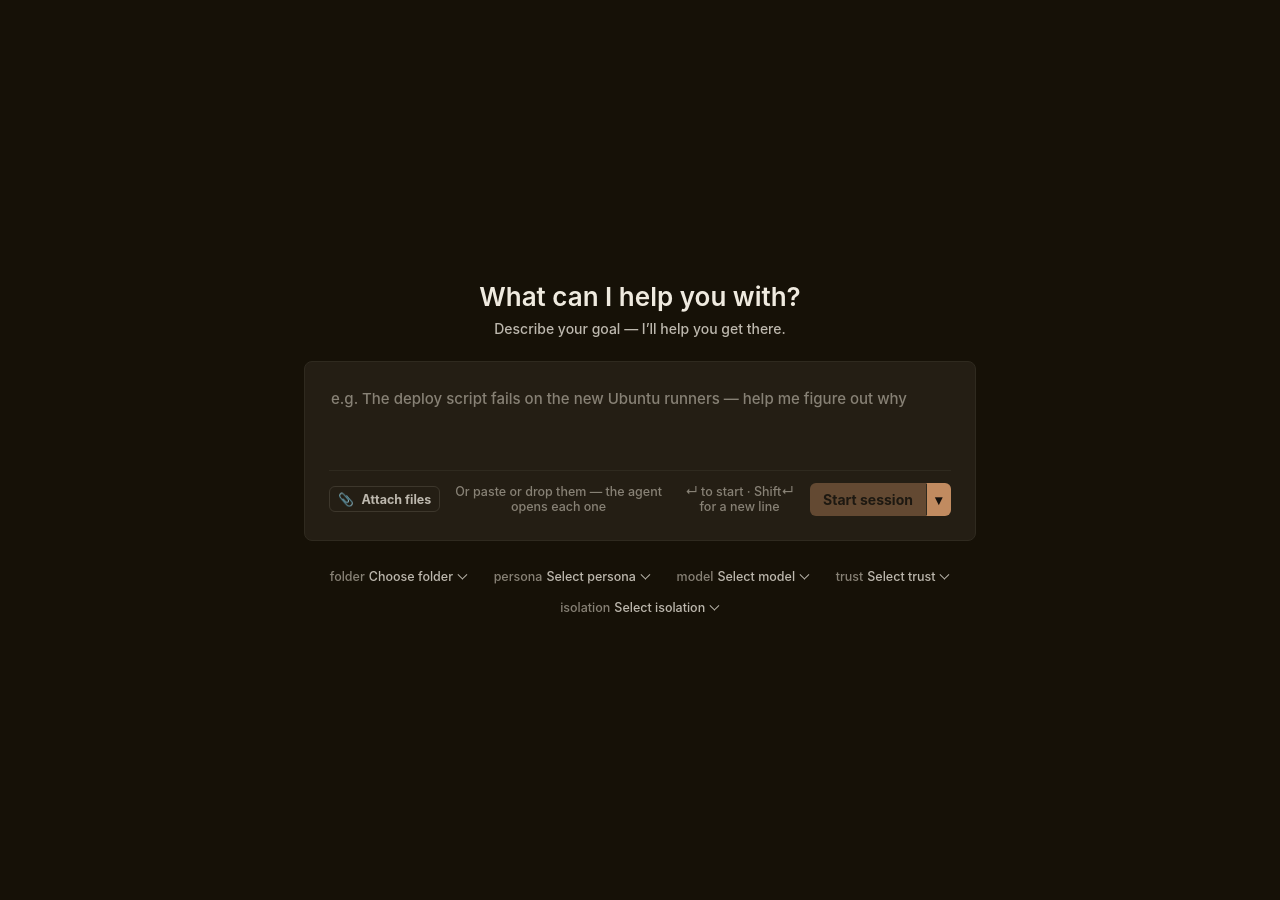
Test: Launchpad › linked sessions (flag-gated) › stages links via the split button's dialog, rendering a chip and relabeling to Start & link
The width and height of the screenshot is (1280, 900).
Click the button named "More start options": click(938, 499) [926, 483, 951, 516]
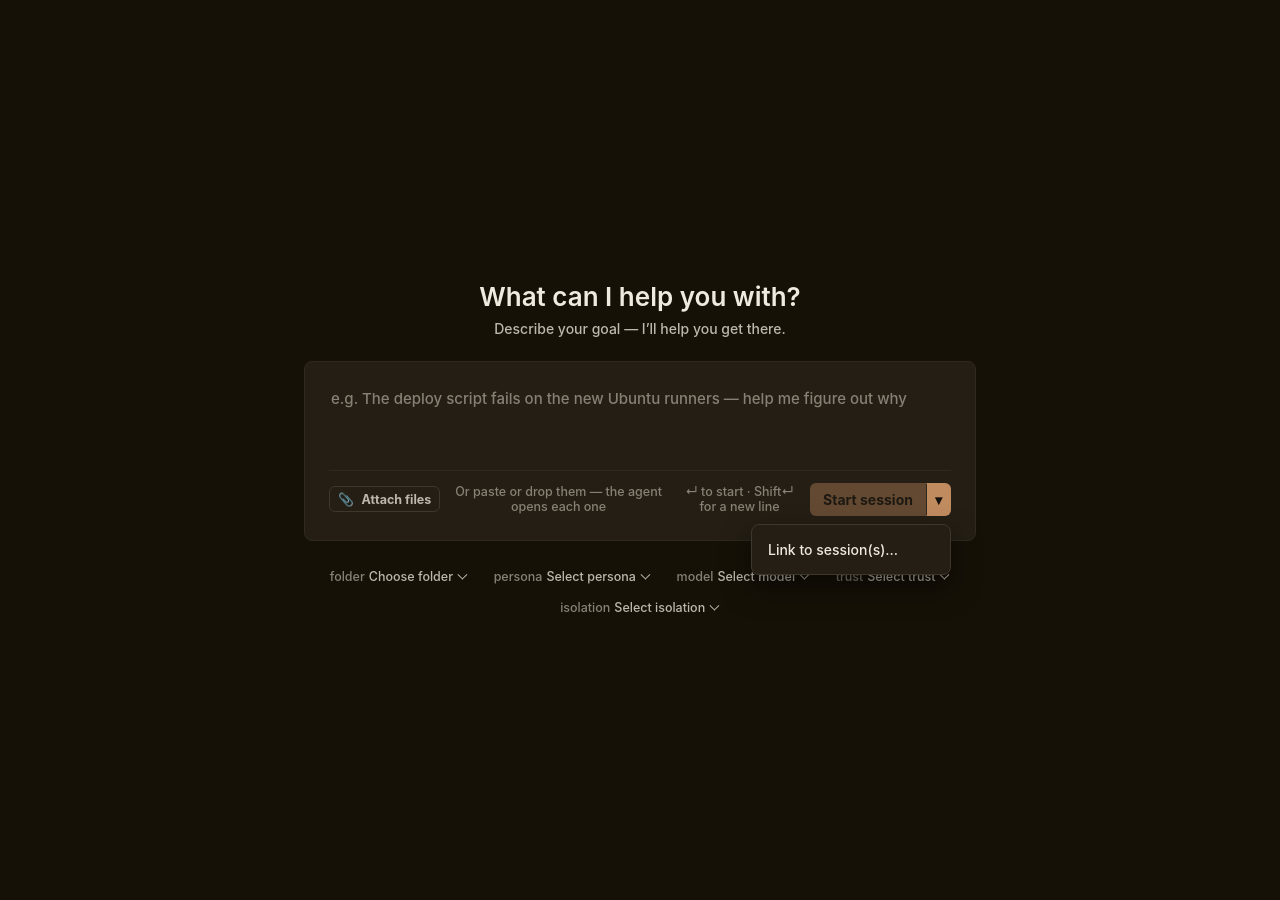
Click the menu item "Link to session(s)…": click(851, 549) [760, 533, 942, 566]
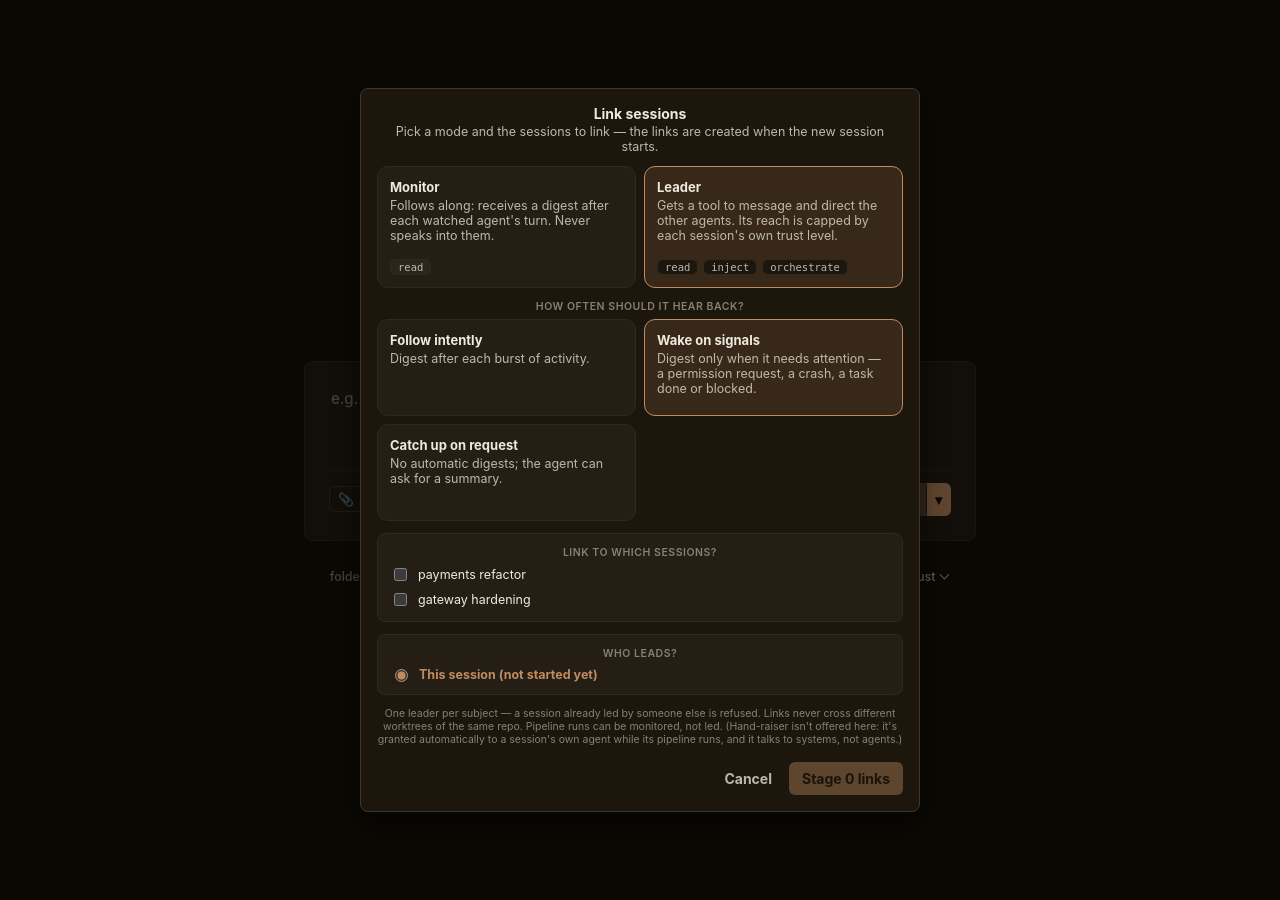
Click the checkbox labelled "payments refactor": click(400, 574) [394, 568, 407, 581]
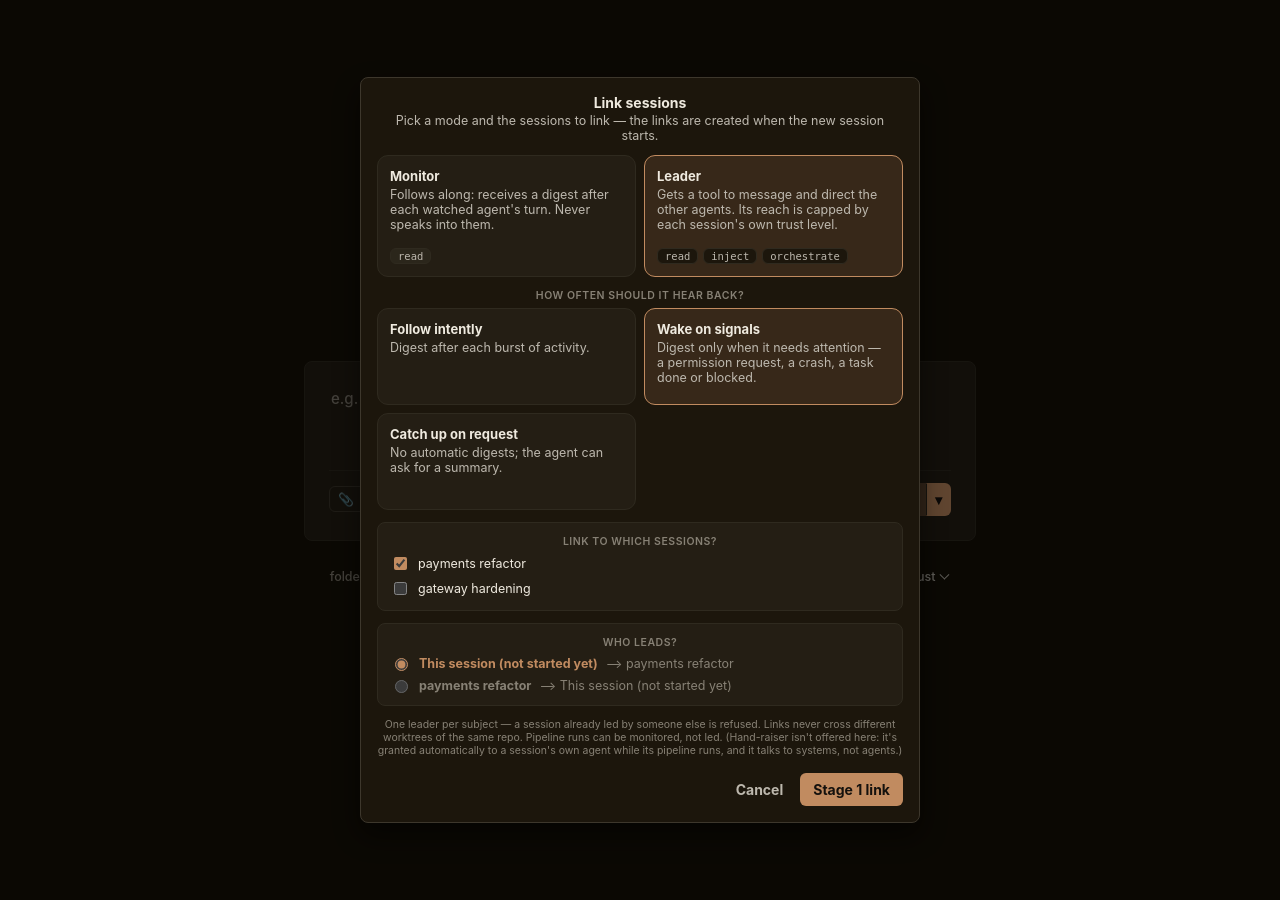
Click the button "Stage 1 link": click(852, 790) [800, 773, 903, 806]
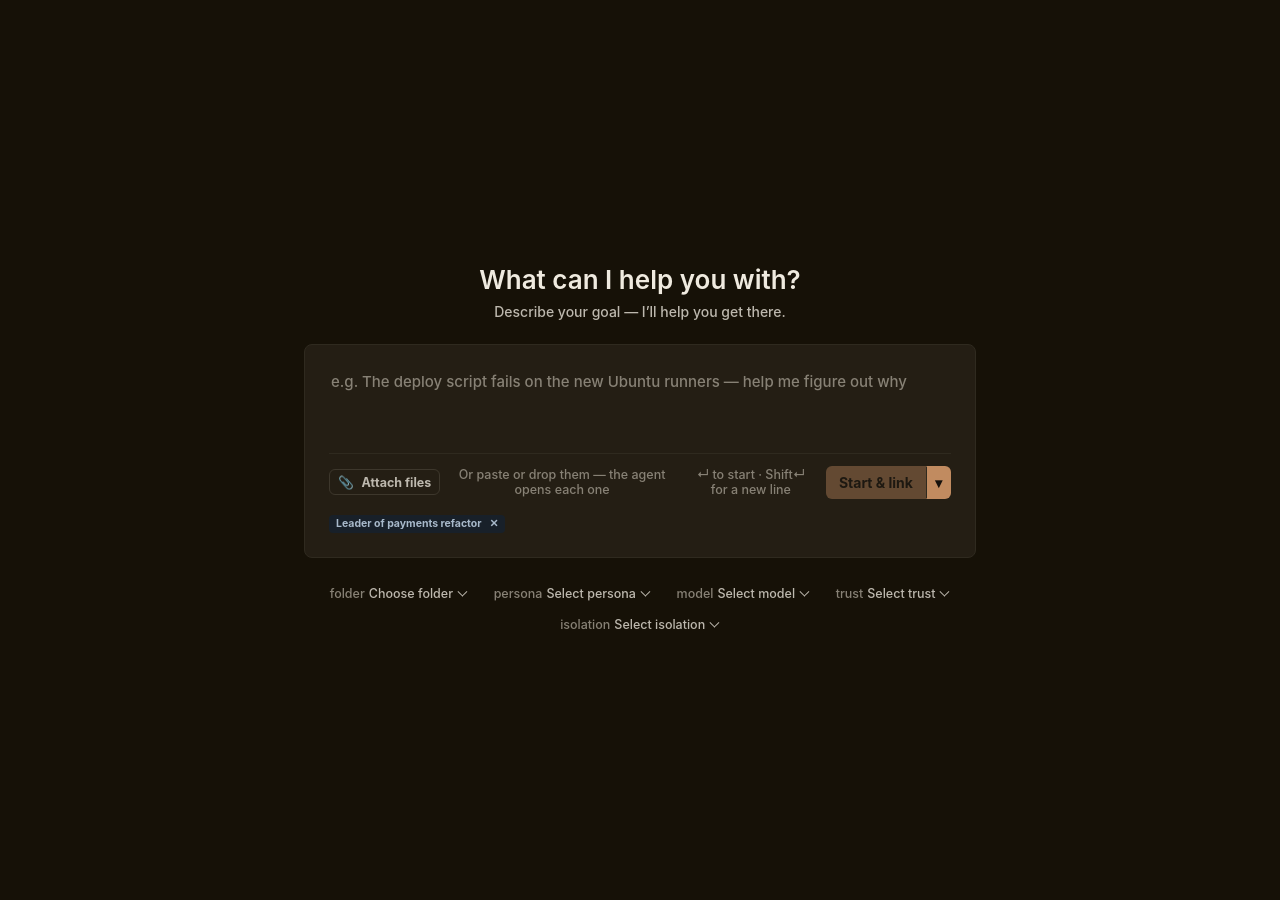
Check: the text "Leader of payments refactor" is shown, box [336, 518, 482, 529]
Check: the button "Start & link" is shown, box [826, 466, 926, 498]
Check: the button "Start session" is gone
